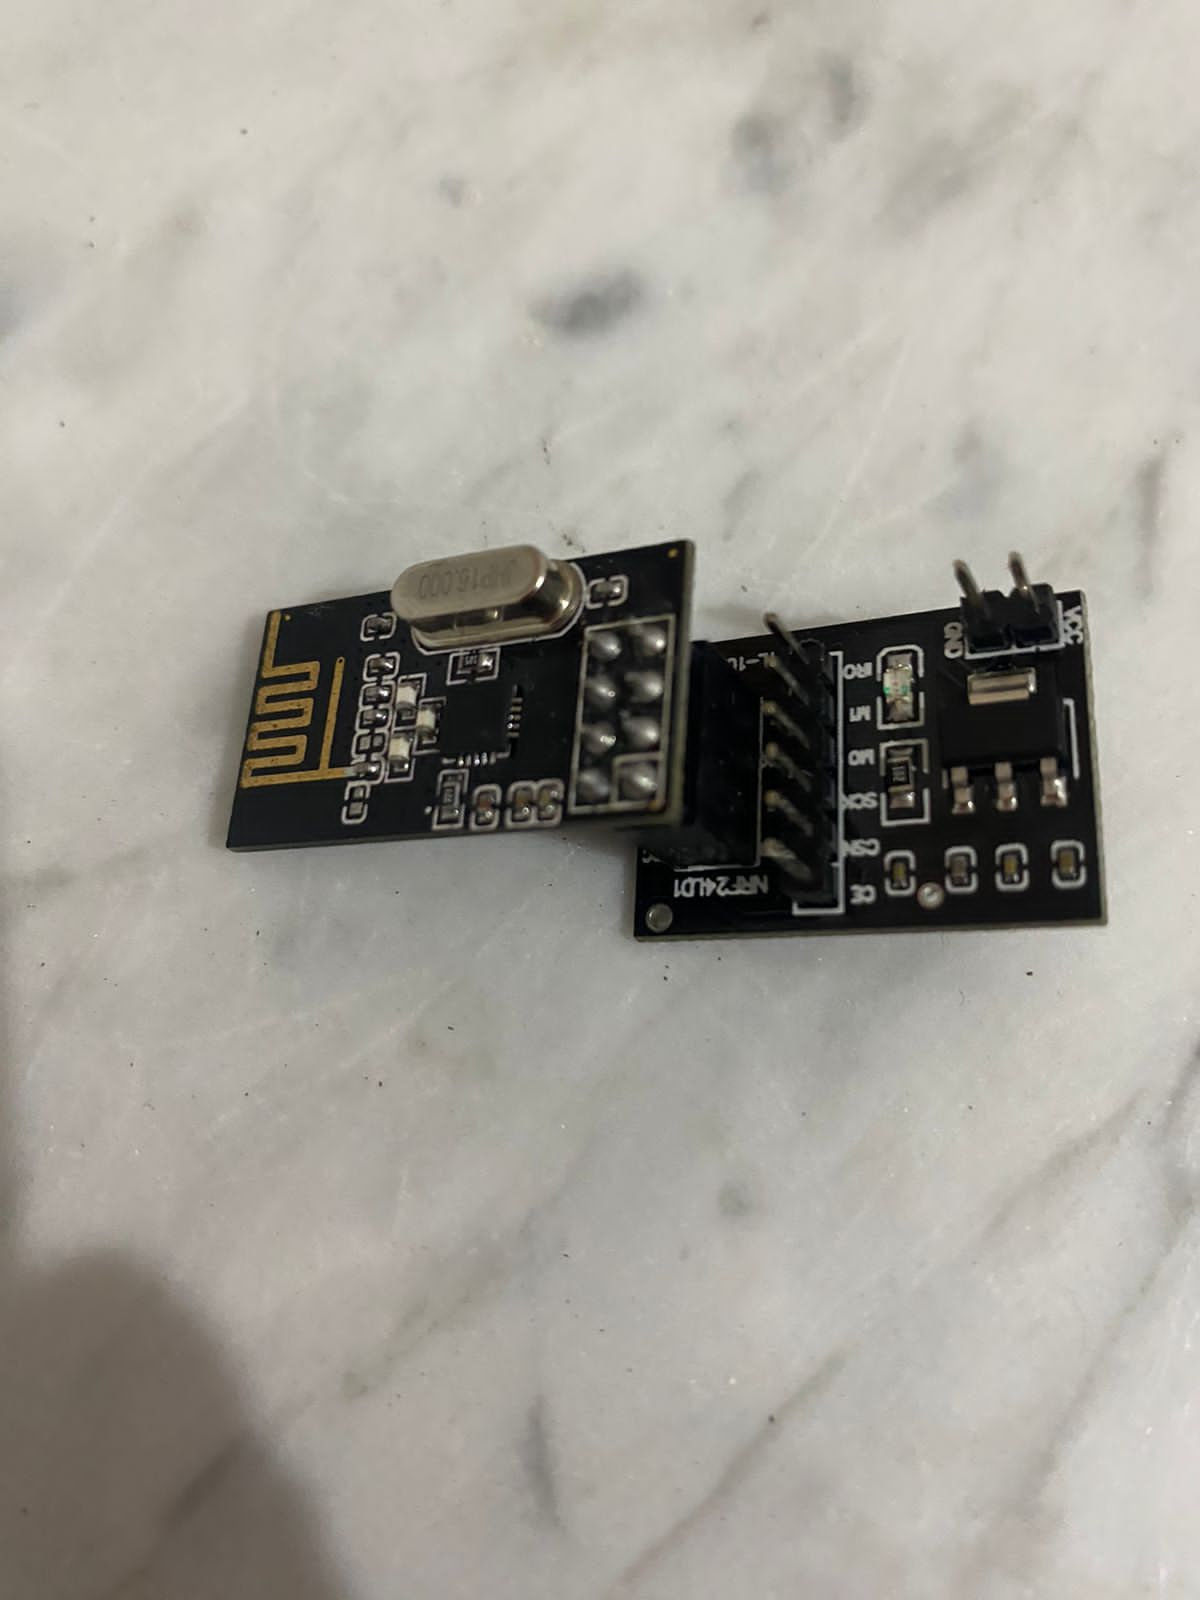RF-module: (211, 505, 1126, 979)
